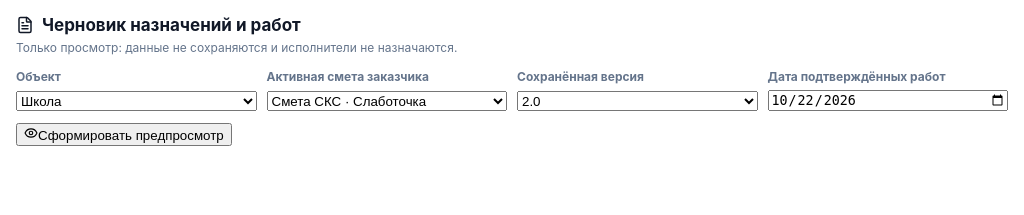
AssignmentDailyDraftPreviewPanel › fails closed on malformed server output
Type "2026-08-21" into the date field labelled "Дата подтверждённых работ". click: [888, 101]
box: left=768, top=90, right=1008, bottom=111
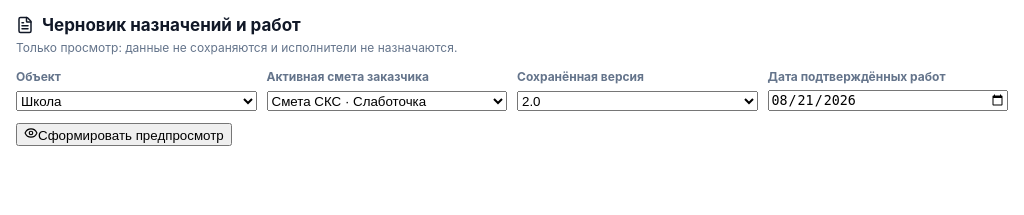
Click the button "Сформировать предпросмотр". click: [124, 135]
box: left=16, top=123, right=232, bottom=146
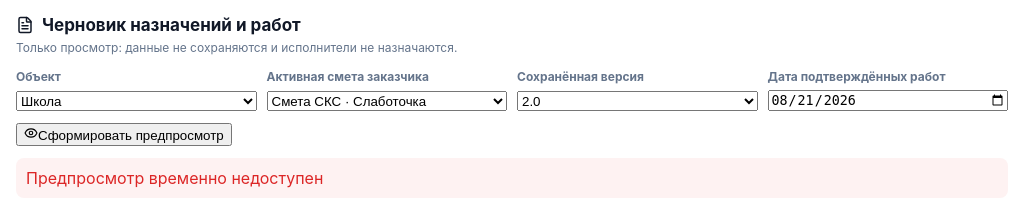
Expected: the message reads "Предпросмотр временно недоступен", left=26, top=168, right=323, bottom=188
